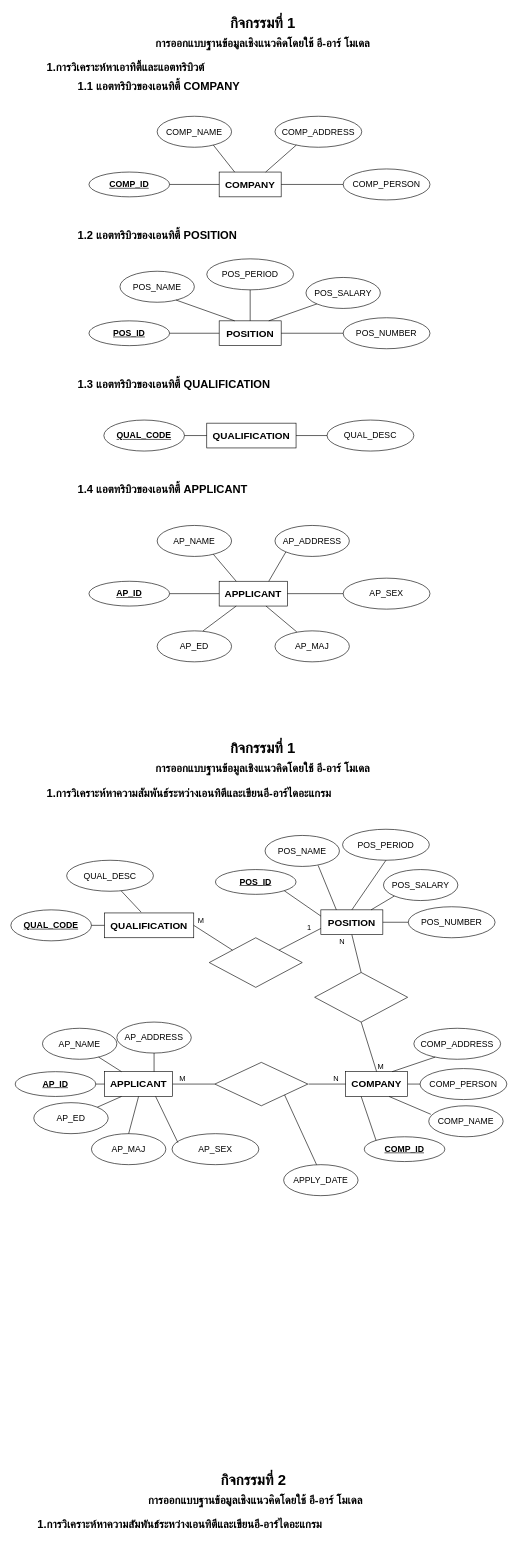
This 518x1546 diagram has some shape labels left out. The shapes that lost their labels are listed below. From the top down, each one's box as (x1, y1, x2, y2) in pixels, then its label:
(209, 937, 302, 987): HAS QUALIFICATION
(314, 972, 408, 1022): OFFER JOB POSITION
(214, 1062, 308, 1106): APPLY FOR JOB
